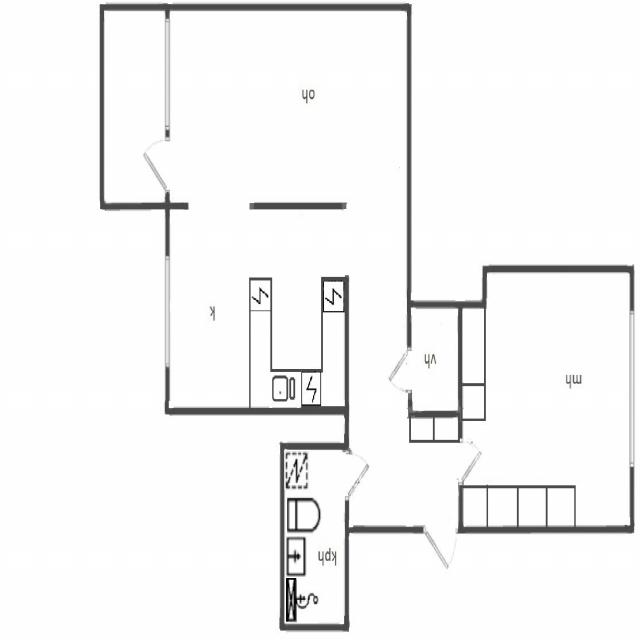door: (424, 526, 456, 583), (134, 140, 169, 191), (344, 453, 375, 496), (381, 349, 411, 391), (458, 441, 488, 482)
